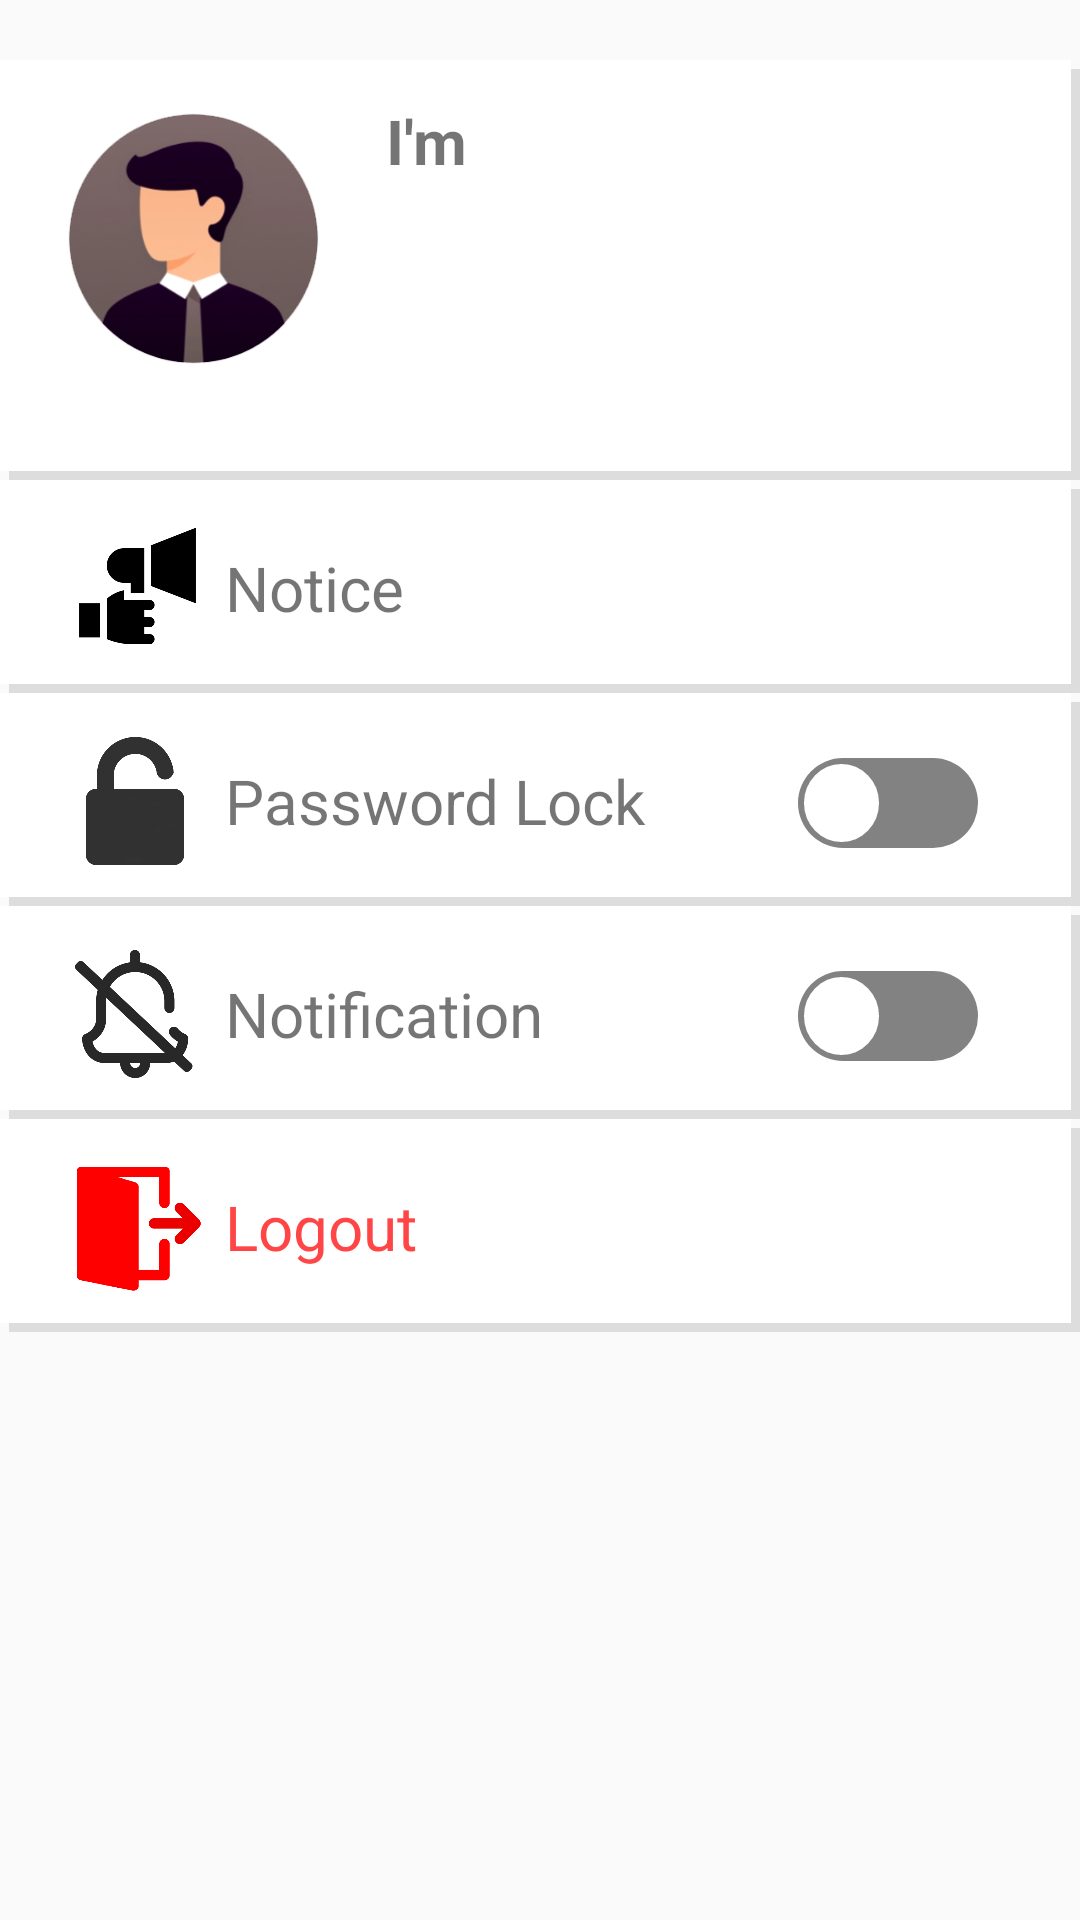

Where to tap for icons on this 1080×1920 app screen, as [x,y]:
alert off: [134,1014]
lock off: [135,801]
speaker: [137,586]
user main: [193,238]
